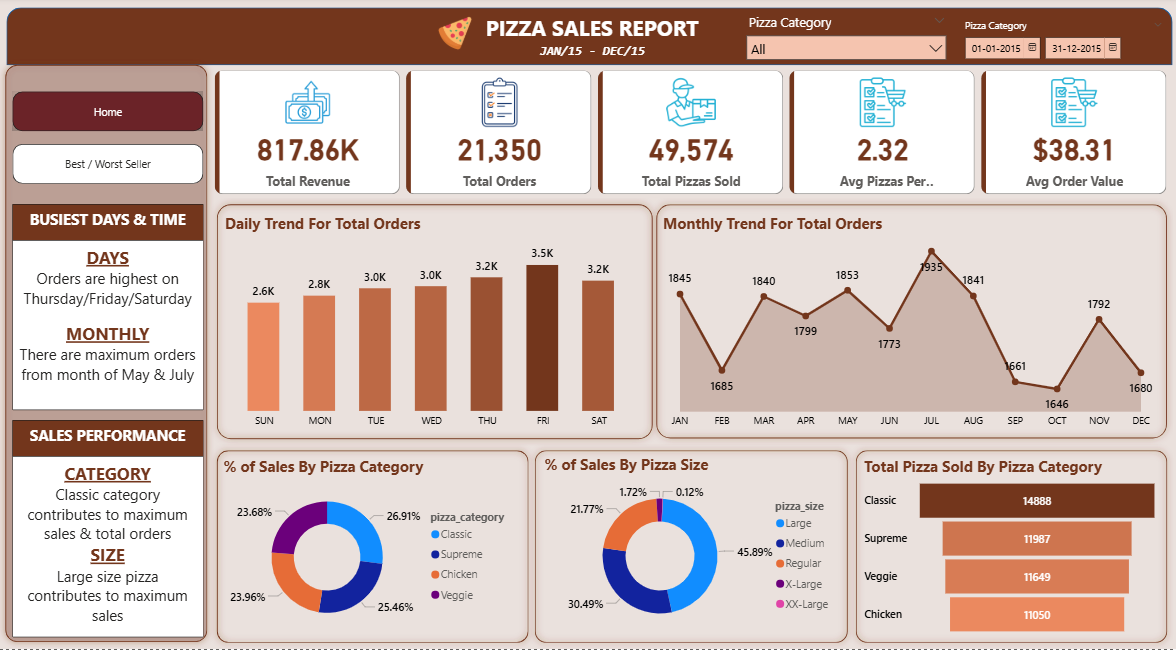

What the dashboard file says about the page in this screenshot:
{"tool":"powerbi","page":{"name":"Home","canvas":[1500,820],"ordinal":0},"visuals":[{"type":"cardVisual","fields":{"Data":["pizza_sales.Total Revenue","pizza_sales.Total Orders","pizza_sales.Total Pizzas Sold","pizza_sales.Avg Pizzas Per Order","pizza_sales.Avg Order Value"]},"box":[269.8,86.8,1211.2,166],"z":0},{"type":"shape","box":[13.6,13.6,1466.4,72.7],"z":1000},{"type":"textbox","box":[605.6,15.1,288.6,50.9],"z":2000},{"type":"textbox","box":[673.6,52.7,152.7,41.8],"z":3000},{"type":"image","box":[549,18.9,56.6,52.8],"z":4000},{"type":"shape","box":[269.8,252.8,564.1,311.3],"z":5000},{"type":"columnChart","title":"Daily Trend For Total Orders","fields":{"Y":["pizza_sales.Total Orders"],"Category":["pizza_sales.Order Day"]},"box":[282.3,271.1,529.1,278.6],"z":6000},{"type":"shape","box":[822.6,252.4,658.1,310.3],"z":7000},{"type":"areaChart","title":"Monthly Trend For Total Orders","fields":{"Y":["pizza_sales.Total Orders"],"Category":["pizza_sales.Order Month"]},"box":[833.8,271.1,631.9,278.6],"z":8000},{"type":"shape","box":[269.2,562.7,408,258],"z":9000},{"type":"shape","box":[669.3,562.7,409.4,258],"z":10000},{"type":"shape","box":[1073.1,562.7,407.6,258],"z":11000},{"type":"donutChart","title":"% of Sales By Pizza Category","fields":{"Category":["pizza_sales.pizza_category"],"Y":["pizza_sales.Total Revenue"]},"box":[282,578,379,229],"z":12000},{"type":"donutChart","title":"% of Sales By Pizza Size","fields":{"Y":["pizza_sales.Total Revenue"],"Category":["pizza_sales.pizza_size"]},"box":[684,576,380,230],"z":13000},{"type":"funnel","title":"Total Pizza Sold By Pizza Category","fields":{"Category":["pizza_sales.pizza_category"],"Y":["pizza_sales.Total Pizzas Sold"]},"box":[1086,578,380,230],"z":14000},{"type":"shape","box":[4,78,270,742],"z":15000},{"type":"textbox","box":[20,260,240,46],"z":16000},{"type":"textbox","box":[20,306,240,214],"z":17000},{"type":"textbox","box":[20,532,240,46],"z":18000},{"type":"textbox","box":[20,578,240,228],"z":19000},{"type":"slicer","fields":{"Values":["pizza_sales.pizza_category"]},"box":[933.8,15.1,271.7,67.9],"z":20000},{"type":"slicer","fields":{"Values":["pizza_sales.order_date"]},"box":[1205.5,22.6,273.5,67.9],"z":21000},{"type":"pageNavigator","box":[20,118,240,50],"z":22000},{"type":"pageNavigator","box":[20,184,240,50],"z":23000}]}

Visuals, with their boxes in screenshot pixels (x1, y1, x2, y2), scaled from the page's 1500x820 canvas onto the 1176x650 screenshot:
cardVisual - pizza_sales.Total Revenue x pizza_sales.Total Orders: <box>212,69,1161,200</box>
shape: <box>11,11,1160,68</box>
textbox: <box>475,12,701,52</box>
textbox: <box>528,42,648,75</box>
image: <box>430,15,475,57</box>
shape: <box>212,200,654,447</box>
"Daily Trend For Total Orders" columnChart: <box>221,215,636,436</box>
shape: <box>645,200,1161,446</box>
"Monthly Trend For Total Orders" areaChart: <box>654,215,1149,436</box>
shape: <box>211,446,531,649</box>
shape: <box>525,446,846,649</box>
shape: <box>841,446,1161,649</box>
"% of Sales By Pizza Category" donutChart: <box>221,458,518,640</box>
"% of Sales By Pizza Size" donutChart: <box>536,457,834,639</box>
"Total Pizza Sold By Pizza Category" funnel: <box>851,458,1149,640</box>
shape: <box>3,62,215,649</box>
textbox: <box>16,206,204,243</box>
textbox: <box>16,243,204,412</box>
textbox: <box>16,422,204,458</box>
textbox: <box>16,458,204,639</box>
slicer - pizza_sales.pizza_category: <box>732,12,945,66</box>
slicer - pizza_sales.order_date: <box>945,18,1160,72</box>
pageNavigator: <box>16,94,204,133</box>
pageNavigator: <box>16,146,204,185</box>
